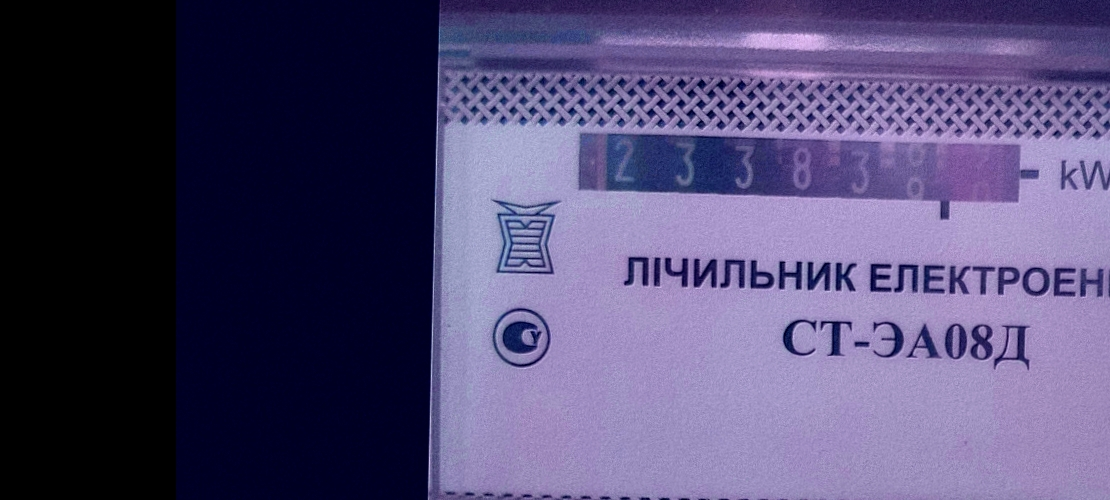0: (969, 177, 995, 203)
2: (611, 135, 640, 184)
3: (672, 139, 700, 189), (848, 146, 874, 195), (733, 142, 758, 192)
8: (790, 144, 816, 190), (903, 141, 932, 168)
9: (902, 172, 930, 201), (970, 142, 995, 171)
screen: (566, 121, 1040, 224)
